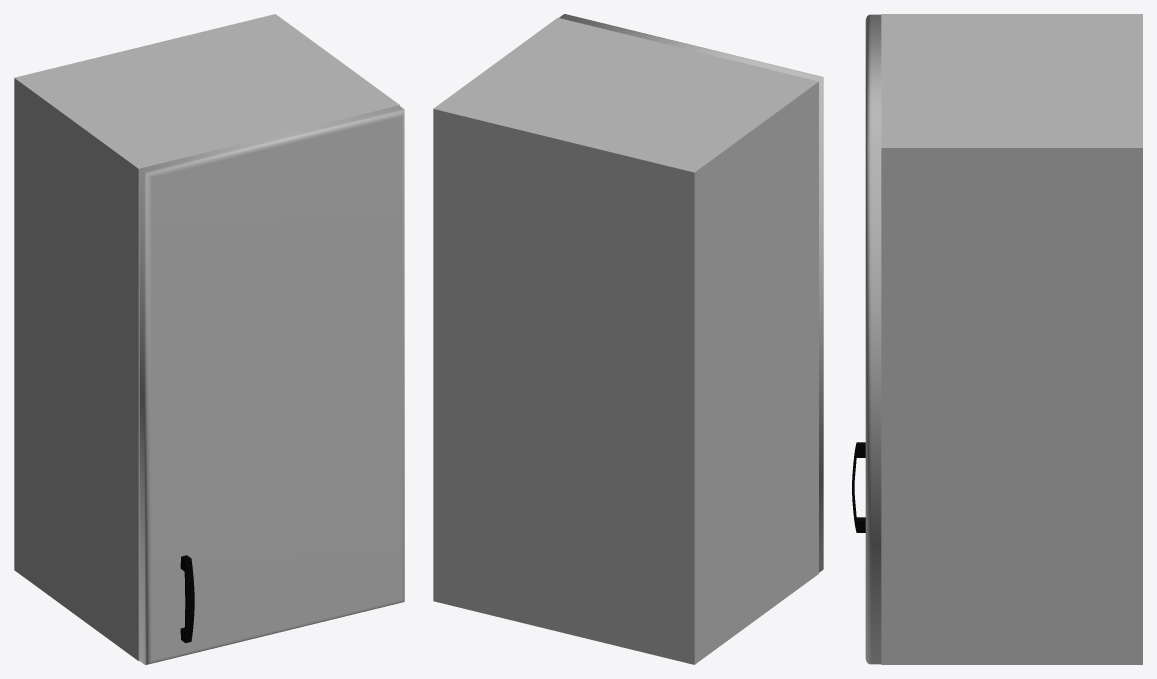
3 renders of one model, left to right at view 1: azimuth 30°, elevation 25°; view 2: azimuth 150°, elevation 25°; view 3: azimuth 270°, elevation 25°, orthographic. The views are drawn at different scales.
Parts seen in each view (by area): view 1: Box011, Box001, Obj3d66-503491-2-344; view 2: Box001, Box011; view 3: Box001, Box011, Obj3d66-503491-2-344.
Part boxes in pixels (x1,y1,x2,y2): Box011: [139, 105, 404, 664]; Box001: [14, 14, 399, 660]; Obj3d66-503491-2-344: [180, 555, 194, 643]; Box001: [433, 18, 818, 664]; Box011: [559, 14, 823, 572]; Box001: [881, 14, 1142, 664]; Box011: [865, 14, 881, 664]; Obj3d66-503491-2-344: [852, 442, 865, 532].
Bounding box in the file's own units: 0.4 × 0.72 × 0.3671.
Materials: 2 (1 with a texture image).
